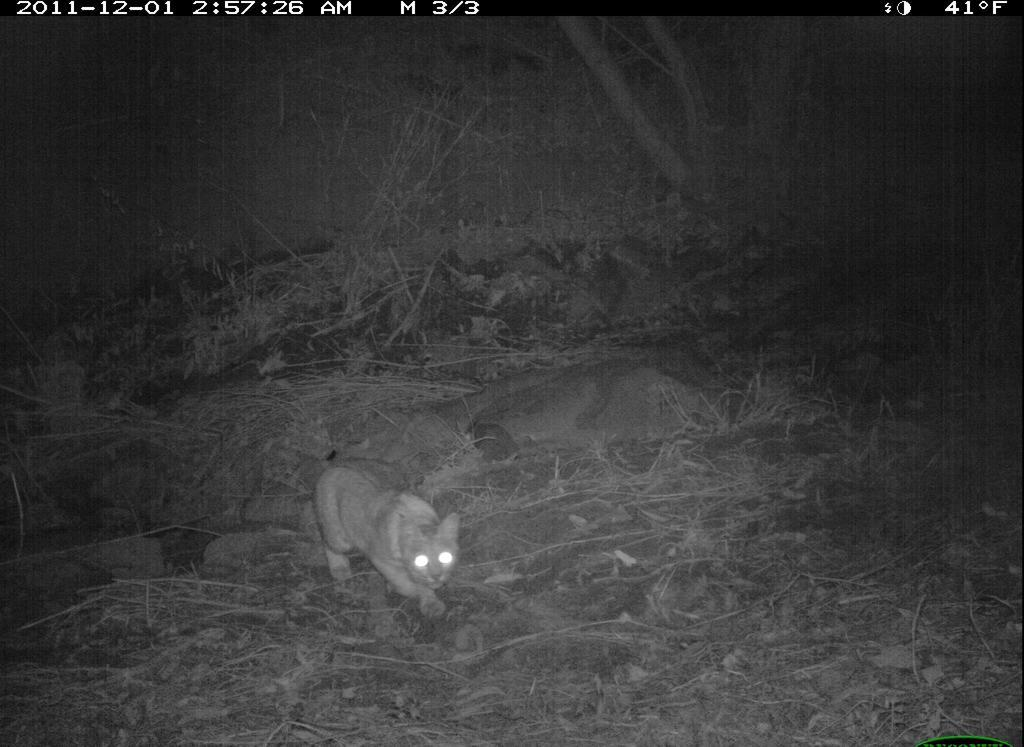bobcat: (297, 454, 478, 628)
